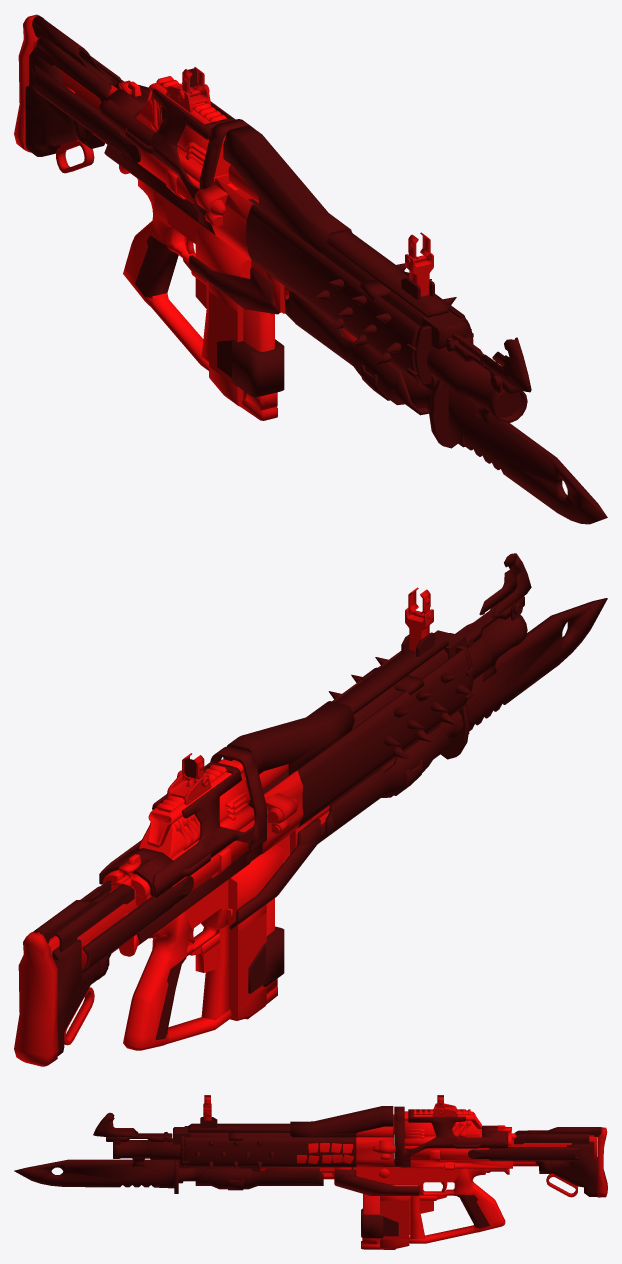
File: Red Death.fbx
3 views of the same model, one above another, from view 1: azimuth 30°, elevation 25°; view 2: azimuth 150°, elevation 25°; view 3: azimuth 270°, elevation 25° (orthographic). The views are drawn at different scales.
Visible parts, largest first — view 1: Red-Death; view 2: Red-Death; view 3: Red-Death.
Part boxes in pixels (x1,y1,x2,y2): Red-Death: (14,14,607,524); Red-Death: (14,553,607,1066); Red-Death: (14,1095,607,1249).
Bounding box in the file's own units: 10.16 × 32.43 × 115.
